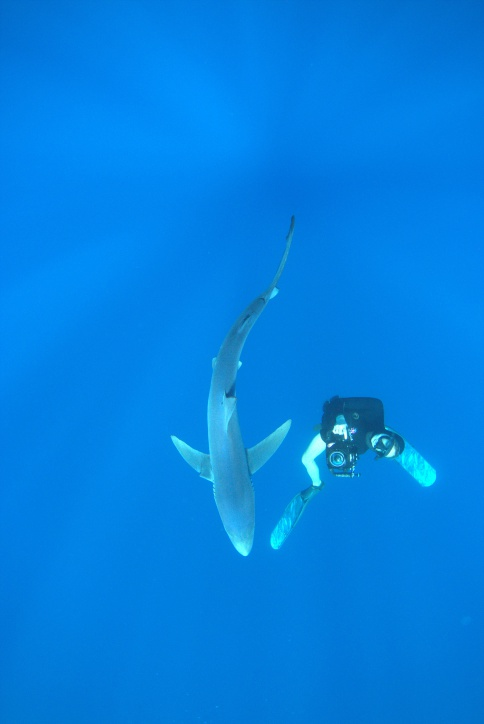Azul: (159, 197, 300, 571)
